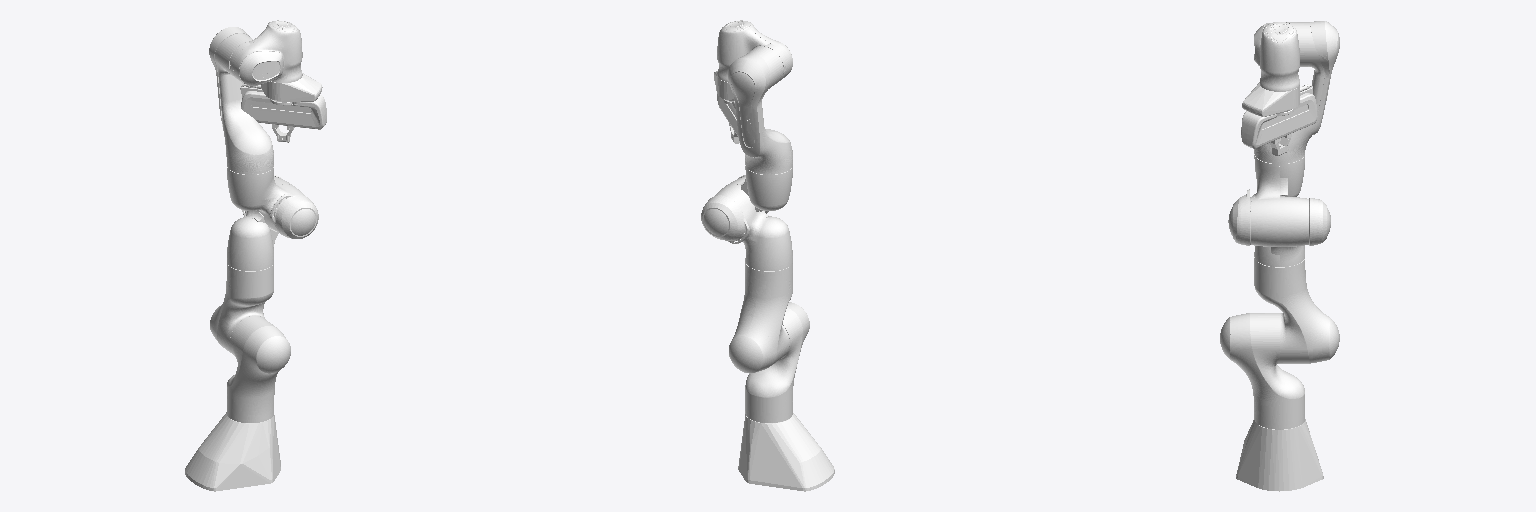
URDF robot description (panda):
<?xml version="1.0"?>
<!-- Prepared from the Genesis Panda description; asset paths changed for static hosting. -->
<robot name="panda">
  <link name="panda_link0">
    <inertial>
      <origin rpy="0 0 0" xyz="0 0 0.05" />
      <mass value="2.9" />
      <inertia ixx="0.1" ixy="0" ixz="0" iyy="0.1" iyz="0" izz="0.1" />
    </inertial>
    <visual>
      <geometry>
        <mesh filename="meshes/collision/link0.obj" />
      </geometry>
      <material name="panda_white">
        <color rgba="1. 1. 1. 1." />
      </material>
    </visual>
    <collision>
      <geometry>
        <mesh filename="meshes/collision/link0.obj" />
      </geometry>
      <material name="panda_white" />
    </collision>
  </link>
  <link name="panda_link1">
    <inertial>
      <origin rpy="0 0 0" xyz="0 -0.04 -0.05" />
      <mass value="2.7" />
      <inertia ixx="0.1" ixy="0" ixz="0" iyy="0.1" iyz="0" izz="0.1" />
    </inertial>
    <visual>
      <geometry>
        <mesh filename="meshes/visual/link1.obj" />
      </geometry>
      <material name="panda_white" />
    </visual>
    <collision>
      <geometry>
        <mesh filename="meshes/collision/link1.obj" />
      </geometry>
      <material name="panda_white" />
    </collision>
  </link>
  <joint name="panda_joint1" type="revolute">
    <safety_controller k_position="100.0" k_velocity="40.0" soft_lower_limit="-2.8973" soft_upper_limit="2.8973" />
    <origin rpy="0 0 0" xyz="0 0 0.333" />
    <parent link="panda_link0" />
    <child link="panda_link1" />
    <axis xyz="0 0 1" />
    <limit effort="87" lower="-2.9671" upper="2.9671" velocity="2.1750" />
  </joint>
  <link name="panda_link2">
    <inertial>
      <origin rpy="0 0 0" xyz="0 -0.04 0.06" />
      <mass value="2.73" />
      <inertia ixx="0.1" ixy="0" ixz="0" iyy="0.1" iyz="0" izz="0.1" />
    </inertial>
    <visual>
      <geometry>
        <mesh filename="meshes/visual/link2.obj" />
      </geometry>
      <material name="panda_white" />
    </visual>
    <collision>
      <geometry>
        <mesh filename="meshes/collision/link2.obj" />
      </geometry>
      <material name="panda_white" />
    </collision>
  </link>
  <joint name="panda_joint2" type="revolute">
    <safety_controller k_position="100.0" k_velocity="40.0" soft_lower_limit="-1.7628" soft_upper_limit="1.7628" />
    <origin rpy="-1.57079632679 0 0" xyz="0 0 0" />
    <parent link="panda_link1" />
    <child link="panda_link2" />
    <axis xyz="0 0 1" />
    <limit effort="87" lower="-1.8326" upper="1.8326" velocity="2.1750" />
  </joint>
  <link name="panda_link3">
    <inertial>
      <origin rpy="0 0 0" xyz="0.01 0.01 -0.05" />
      <mass value="2.04" />
      <inertia ixx="0.1" ixy="0" ixz="0" iyy="0.1" iyz="0" izz="0.1" />
    </inertial>
    <visual>
      <geometry>
        <mesh filename="meshes/visual/link3.obj" />
      </geometry>
      <material name="panda_red">
        <color rgba="1. 1. 1. 1." />
      </material>
    </visual>
    <collision>
      <geometry>
        <mesh filename="meshes/collision/link3.obj" />
      </geometry>
    </collision>
  </link>
  <joint name="panda_joint3" type="revolute">
    <safety_controller k_position="100.0" k_velocity="40.0" soft_lower_limit="-2.8973" soft_upper_limit="2.8973" />
    <origin rpy="1.57079632679 0 0" xyz="0 -0.316 0" />
    <parent link="panda_link2" />
    <child link="panda_link3" />
    <axis xyz="0 0 1" />
    <limit effort="87" lower="-2.9671" upper="2.9671" velocity="2.1750" />
  </joint>
  <link name="panda_link4">
    <inertial>
      <origin rpy="0 0 0" xyz="-0.03 0.03 0.02" />
      <mass value="2.08" />
      <inertia ixx="0.1" ixy="0" ixz="0" iyy="0.1" iyz="0" izz="0.1" />
    </inertial>
    <visual>
      <geometry>
        <mesh filename="meshes/visual/link4.obj" />
      </geometry>
      <material name="panda_white" />
    </visual>
    <collision>
      <geometry>
        <mesh filename="meshes/collision/link4.obj" />
      </geometry>
      <material name="panda_white" />
    </collision>
  </link>
  <joint name="panda_joint4" type="revolute">
    <safety_controller k_position="100.0" k_velocity="40.0" soft_lower_limit="-3.0718" soft_upper_limit="-0.0698" />
    <origin rpy="1.57079632679 0 0" xyz="0.0825 0 0" />
    <parent link="panda_link3" />
    <child link="panda_link4" />
    <axis xyz="0 0 1" />
    <limit effort="87" lower="-3.1416" upper="0.0" velocity="2.1750" />
  </joint>
  <link name="panda_link5">
    <inertial>
      <origin rpy="0 0 0" xyz="0 0.04 -0.12" />
      <mass value="3" />
      <inertia ixx="0.1" ixy="0" ixz="0" iyy="0.1" iyz="0" izz="0.1" />
    </inertial>
    <visual>
      <geometry>
        <mesh filename="meshes/visual/link5.obj" />
      </geometry>
      <material name="panda_white" />
    </visual>
    <collision>
      <geometry>
        <mesh filename="meshes/collision/link5.obj" />
      </geometry>
      <material name="panda_white" />
    </collision>
  </link>
  <joint name="panda_joint5" type="revolute">
    <safety_controller k_position="100.0" k_velocity="40.0" soft_lower_limit="-2.8973" soft_upper_limit="2.8973" />
    <origin rpy="-1.57079632679 0 0" xyz="-0.0825 0.384 0" />
    <parent link="panda_link4" />
    <child link="panda_link5" />
    <axis xyz="0 0 1" />
    <limit effort="12" lower="-2.9671" upper="2.9671" velocity="2.6100" />
  </joint>
  <link name="panda_link6">
    <inertial>
      <origin rpy="0 0 0" xyz="0.04 0 0" />
      <mass value="1.3" />
      <inertia ixx="0.1" ixy="0" ixz="0" iyy="0.1" iyz="0" izz="0.1" />
    </inertial>
    <visual>
      <geometry>
        <mesh filename="meshes/visual/link6.obj" />
      </geometry>
      <material name="panda_white" />
    </visual>
    <collision>
      <geometry>
        <mesh filename="meshes/collision/link6.obj" />
      </geometry>
      <material name="panda_white" />
    </collision>
  </link>
  <joint name="panda_joint6" type="revolute">
    <safety_controller k_position="100.0" k_velocity="40.0" soft_lower_limit="-0.0175" soft_upper_limit="3.7525" />
    <origin rpy="1.57079632679 0 0" xyz="0 0 0" />
    <parent link="panda_link5" />
    <child link="panda_link6" />
    <axis xyz="0 0 1" />
    <limit effort="12" lower="-0.0873" upper="3.8223" velocity="2.6100" />
  </joint>
  <link name="panda_link7">
    <inertial>
      <origin rpy="0 0 0" xyz="0 0 0.08" />
      <mass value=".2" />
      <inertia ixx="0.1" ixy="0" ixz="0" iyy="0.1" iyz="0" izz="0.1" />
    </inertial>
    <visual>
      <geometry>
        <mesh filename="meshes/collision/link7.obj" />
      </geometry>
      <material name="panda_white" />
    </visual>
    <collision>
      <geometry>
        <mesh filename="meshes/collision/link7.obj" />
      </geometry>
      <material name="panda_white" />
    </collision>
  </link>
  <joint name="panda_joint7" type="revolute">
    <safety_controller k_position="100.0" k_velocity="40.0" soft_lower_limit="-2.8973" soft_upper_limit="2.8973" />
    <origin rpy="1.57079632679 0 0" xyz="0.088 0 0" />
    <parent link="panda_link6" />
    <child link="panda_link7" />
    <axis xyz="0 0 1" />
    <limit effort="12" lower="-2.9671" upper="2.9671" velocity="2.6100" />
  </joint>
  <link name="panda_link8">
    <inertial>
      <origin rpy="0 0 0" xyz="0 0 0" />
      <mass value="0.0" />
      <inertia ixx="0.1" ixy="0" ixz="0" iyy="0.1" iyz="0" izz="0.1" />
    </inertial>
  </link>
  <joint name="panda_joint8" type="fixed">
    <origin rpy="0 0 0" xyz="0 0 0.107" />
    <parent link="panda_link7" />
    <child link="panda_link8" />
    <axis xyz="0 0 0" />
  </joint>
  <joint name="panda_hand_joint" type="fixed">
    <parent link="panda_link8" />
    <child link="panda_hand" />
    <origin rpy="0 0 -0.785398163397" xyz="0 0 0" />
  </joint>
  <link name="panda_hand">
    <inertial>
      <origin rpy="0 0 0" xyz="0 0 0.04" />
      <mass value=".81" />
      <inertia ixx="0.1" ixy="0" ixz="0" iyy="0.1" iyz="0" izz="0.1" />
    </inertial>
    <visual>
      <geometry>
        <mesh filename="meshes/visual/hand.obj" />
      </geometry>
      <material name="panda_white" />
    </visual>
    <collision>
      <geometry>
        <mesh filename="meshes/collision/hand.obj" />
      </geometry>
      <material name="panda_white" />
    </collision>
  </link>
  <link name="panda_leftfinger">
    <contact>
      <friction_anchor />
      <stiffness value="30000.0" />
      <damping value="1000.0" />
      <spinning_friction value="0.1" />
      <lateral_friction value="1.0" />
    </contact>
    <inertial>
      <origin rpy="0 0 0" xyz="0 0.01 0.02" />
      <mass value="0.1" />
      <inertia ixx="0.1" ixy="0" ixz="0" iyy="0.1" iyz="0" izz="0.1" />
    </inertial>
    <visual>
      <geometry>
        <mesh filename="meshes/visual/finger.obj" />
      </geometry>
      <material name="panda_white" />
    </visual>
    <collision>
      <geometry>
        <mesh filename="meshes/collision/finger.obj" />
      </geometry>
      <material name="panda_white" />
    </collision>
  </link>
  <link name="panda_rightfinger">
    <contact>
      <friction_anchor />
      <stiffness value="30000.0" />
      <damping value="1000.0" />
      <spinning_friction value="0.1" />
      <lateral_friction value="1.0" />
    </contact>
    <inertial>
      <origin rpy="0 0 0" xyz="0 -0.01 0.02" />
      <mass value="0.1" />
      <inertia ixx="0.1" ixy="0" ixz="0" iyy="0.1" iyz="0" izz="0.1" />
    </inertial>
    <visual>
      <origin rpy="0 0 3.14159265359" xyz="0 0 0" />
      <geometry>
        <mesh filename="meshes/visual/finger.obj" />
      </geometry>
      <material name="panda_white" />
    </visual>
    <collision>
      <origin rpy="0 0 3.14159265359" xyz="0 0 0" />
      <geometry>
        <mesh filename="meshes/collision/finger.obj" />
      </geometry>
      <material name="panda_white" />
    </collision>
  </link>
  <joint name="panda_finger_joint1" type="prismatic">
    <parent link="panda_hand" />
    <child link="panda_leftfinger" />
    <origin rpy="0 0 0" xyz="0 0 0.0584" />
    <axis xyz="0 1 0" />
    <limit effort="20" lower="0.0" upper="0.04" velocity="0.2" />
  </joint>
  <joint name="panda_finger_joint2" type="prismatic">
    <parent link="panda_hand" />
    <child link="panda_rightfinger" />
    <origin rpy="0 0 0" xyz="0 0 0.0584" />
    <axis xyz="0 -1 0" />
    <limit effort="20" lower="0.0" upper="0.04" velocity="0.2" />
    <mimic joint="panda_finger_joint1" />
  </joint>
  <link name="panda_grasptarget">
    <inertial>
      <origin rpy="0 0 0" xyz="0 0 0" />
      <mass value="0.0" />
      <inertia ixx="0.1" ixy="0" ixz="0" iyy="0.1" iyz="0" izz="0.1" />
    </inertial>
  </link>
  <joint name="panda_grasptarget_hand" type="fixed">
    <parent link="panda_hand" />
    <child link="panda_grasptarget" />
    <origin rpy="0 0 0" xyz="0 0 0.105" />
  </joint>
</robot>

--- Render facts (derived) ---
3 views of the same robot in one strip: view 1: azimuth 30°, elevation 25°; view 2: azimuth 150°, elevation 25°; view 3: azimuth 270°, elevation 25° (orthographic).
Model panda with 13 links and 12 joints (7 revolute, 2 prismatic, 3 fixed), rooted at panda_link0, posed all joints at 0.
Visible links, largest first — view 1: panda_link0, panda_link1, panda_link5, panda_link4, panda_link6, panda_link2, panda_link3, panda_hand, panda_link7; view 2: panda_link0, panda_link5, panda_link2, panda_link3, panda_link1, panda_link6, panda_link4; view 3: panda_link1, panda_link2, panda_link0, panda_link4, panda_link5, panda_link3, panda_link6, panda_hand, panda_link7.
Boxes of the visible links, <box> form: panda_link0: <box>185,412,280,491</box>; panda_link1: <box>227,316,290,422</box>; panda_link5: <box>209,27,273,174</box>; panda_link4: <box>227,167,318,238</box>; panda_link6: <box>230,20,302,85</box>; panda_link2: <box>210,264,273,355</box>; panda_link3: <box>227,175,291,270</box>; panda_hand: <box>240,84,326,129</box>; panda_link7: <box>261,73,322,102</box>; panda_link0: <box>738,413,834,491</box>; panda_link5: <box>728,46,792,174</box>; panda_link2: <box>729,262,792,373</box>; panda_link3: <box>701,184,792,270</box>; panda_link1: <box>745,302,809,422</box>; panda_link6: <box>717,20,792,82</box>; panda_link4: <box>726,165,792,213</box>; panda_link1: <box>1220,313,1304,429</box>; panda_link2: <box>1254,257,1339,363</box>; panda_link0: <box>1236,419,1323,491</box>; panda_link4: <box>1228,154,1304,246</box>; panda_link5: <box>1254,21,1339,163</box>; panda_link3: <box>1254,196,1330,266</box>; panda_link6: <box>1254,22,1299,91</box>; panda_hand: <box>1241,84,1317,148</box>; panda_link7: <box>1242,82,1299,116</box>.
Size in the robot's own frame: 0.3253 by 0.2593 by 1.11 metres.
Meshes: 10 distinct files referenced, 11 mesh visuals loaded (10 OBJ).
